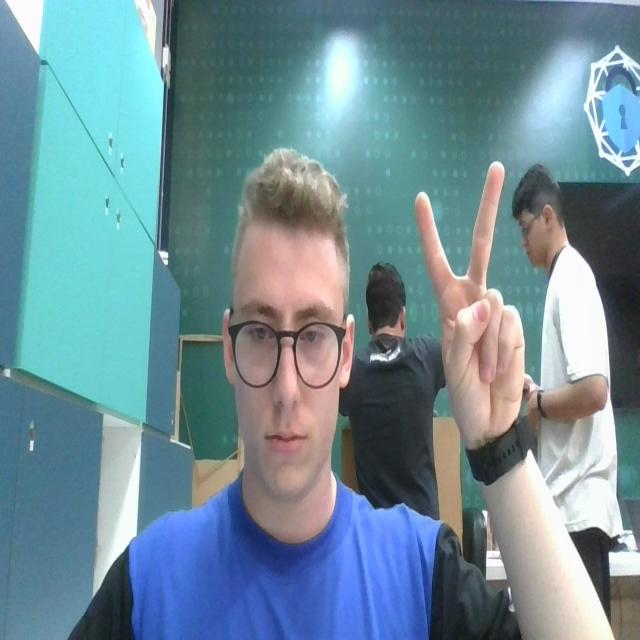V: (415, 160, 529, 423)
